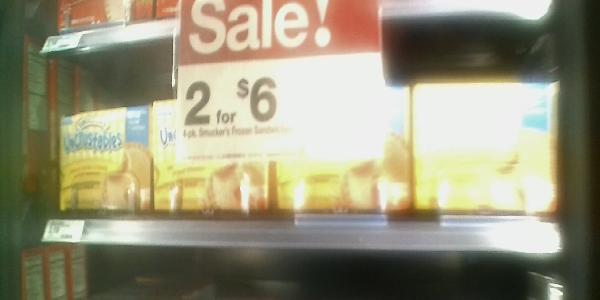icecream: (413, 76, 569, 218), (272, 77, 413, 227), (151, 89, 272, 226), (56, 104, 152, 224)
